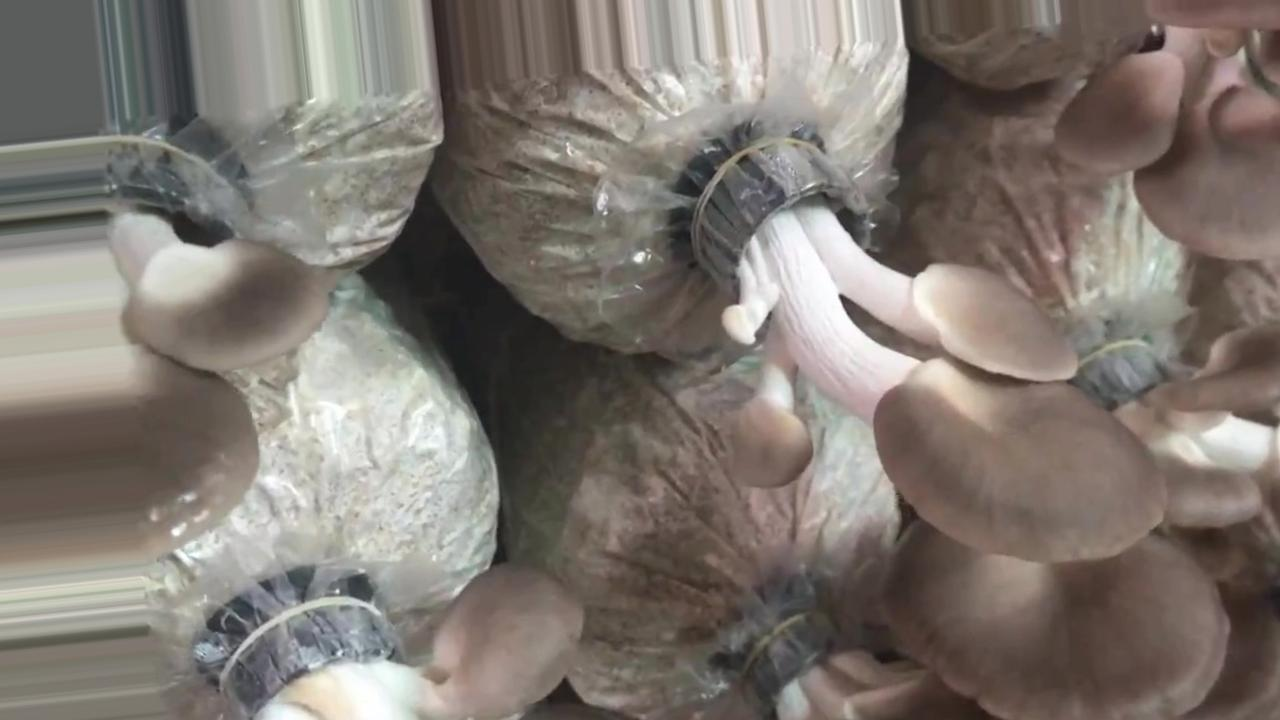nam: (696, 127, 1163, 564), (880, 318, 1280, 715), (750, 518, 1233, 720), (93, 153, 334, 557), (1055, 2, 1280, 264)
